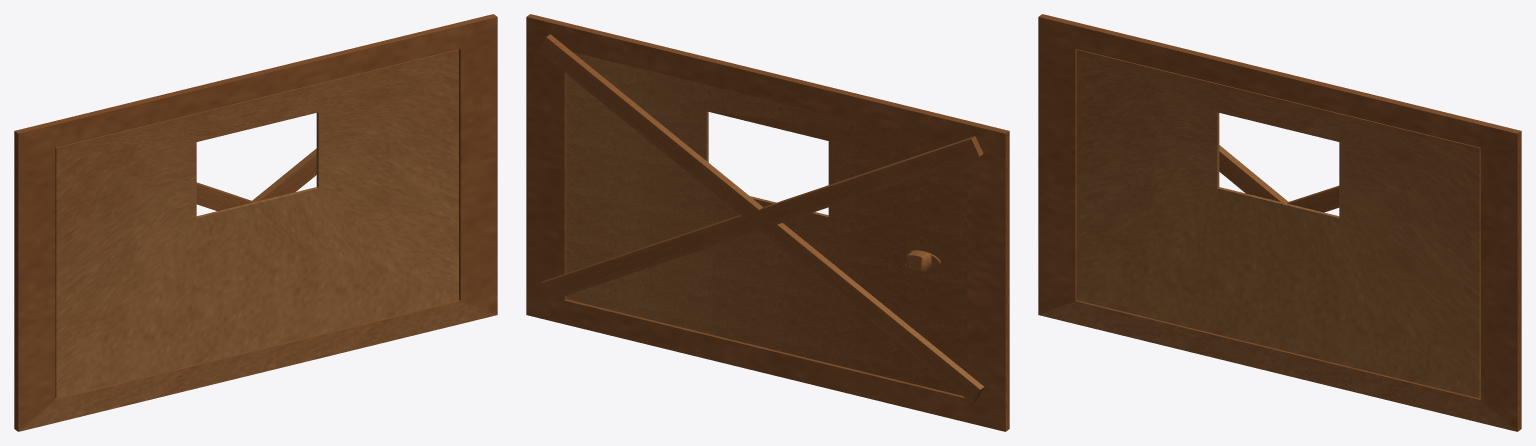
Rendered from blockedbardoor.obj.
3 renders of one model, left to right at view 1: azimuth 30°, elevation 25°; view 2: azimuth 150°, elevation 25°; view 3: azimuth 330°, elevation 25°, orthographic.
Parts seen in each view (by area): view 1: Cube.002, Cube_Cube.001, Cube.001_Cube.003; view 2: Cube.002, Cube_Cube.001, Cube.001_Cube.003; view 3: Cube.002, Cube.001_Cube.003, Cube_Cube.001.
Part boxes in pixels (left/top/right/bottom): Cube.002: left=14, top=14, right=497, bottom=431; Cube_Cube.001: left=252, top=148, right=316, bottom=201; Cube.001_Cube.003: left=196, top=182, right=253, bottom=211; Cube.002: left=526, top=14, right=1009, bottom=431; Cube_Cube.001: left=538, top=34, right=984, bottom=403; Cube.001_Cube.003: left=539, top=136, right=983, bottom=301; Cube.002: left=1038, top=14, right=1521, bottom=431; Cube.001_Cube.003: left=1219, top=145, right=1288, bottom=203; Cube_Cube.001: left=1287, top=185, right=1339, bottom=212.
Size of the model in its own units: 14.39 by 8.56 by 0.4725.
